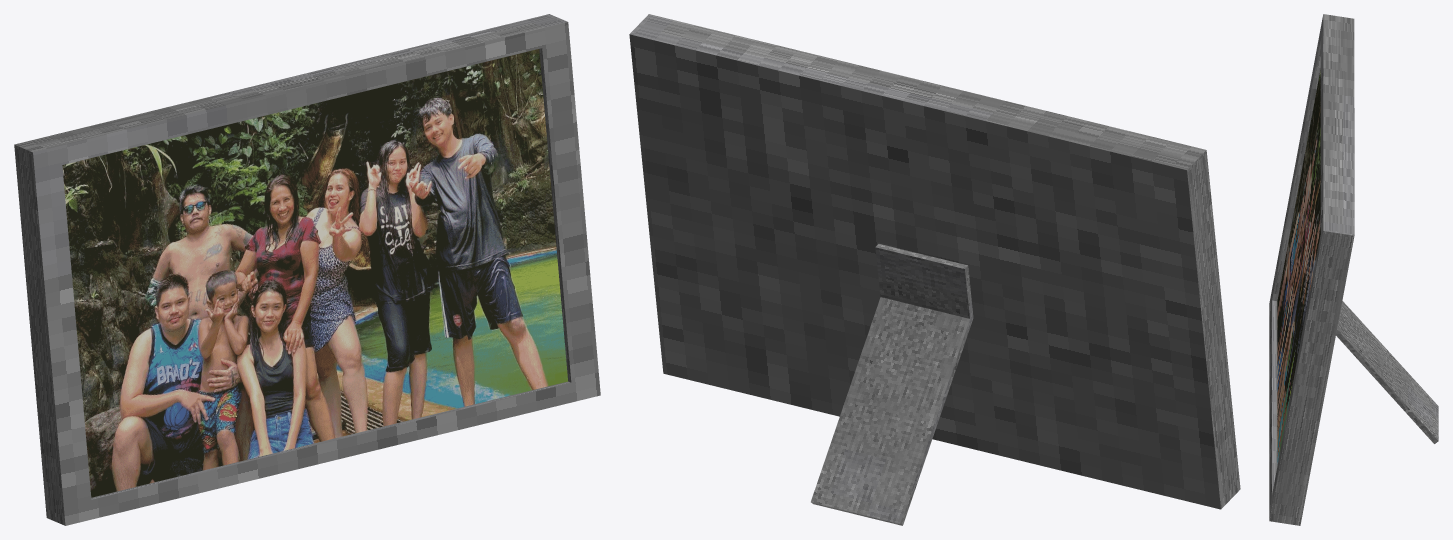
The model's file is picture_frame.glb.
3 views of the same model, side by side, from view 1: azimuth 30°, elevation 25°; view 2: azimuth 150°, elevation 25°; view 3: azimuth 270°, elevation 25° (orthographic). The views are drawn at different scales.
Parts seen in each view (by area): view 1: Cube.001; view 2: Cube.001; view 3: Cube.001.
Boxes of the visible parts, x1,y1,x2,y2 form: Cube.001: (14, 14, 600, 525); Cube.001: (629, 14, 1240, 525); Cube.001: (1269, 14, 1438, 525).
Bounding box in the file's own units: 3.16 × 2.07 × 1.04.
Materials: 3 (3 with a texture image).
